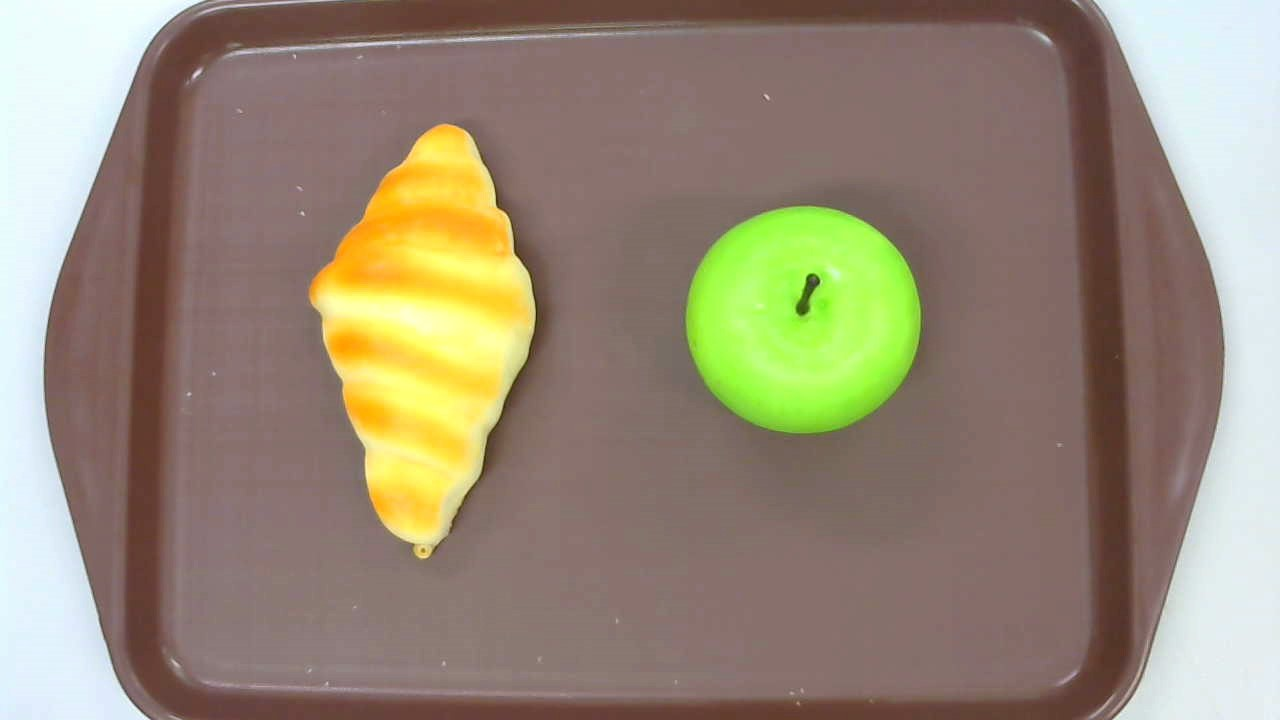croissant: (307, 124, 537, 559)
green apple: (684, 203, 921, 435)
